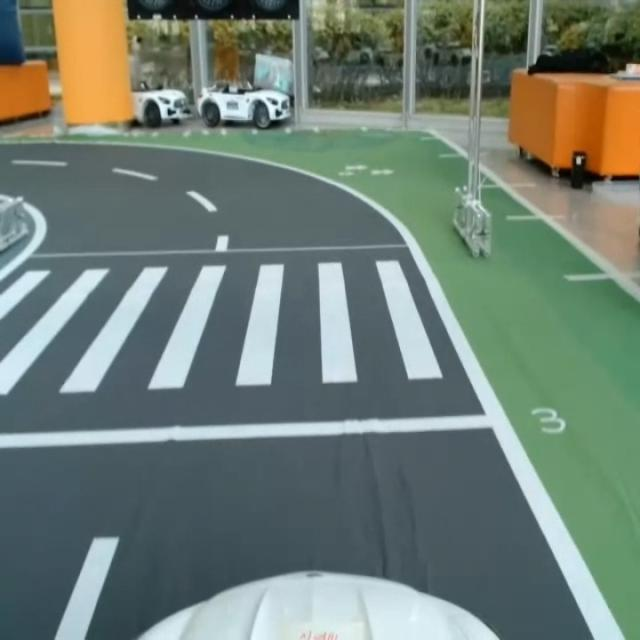traffic-light: (123, 0, 305, 23)
